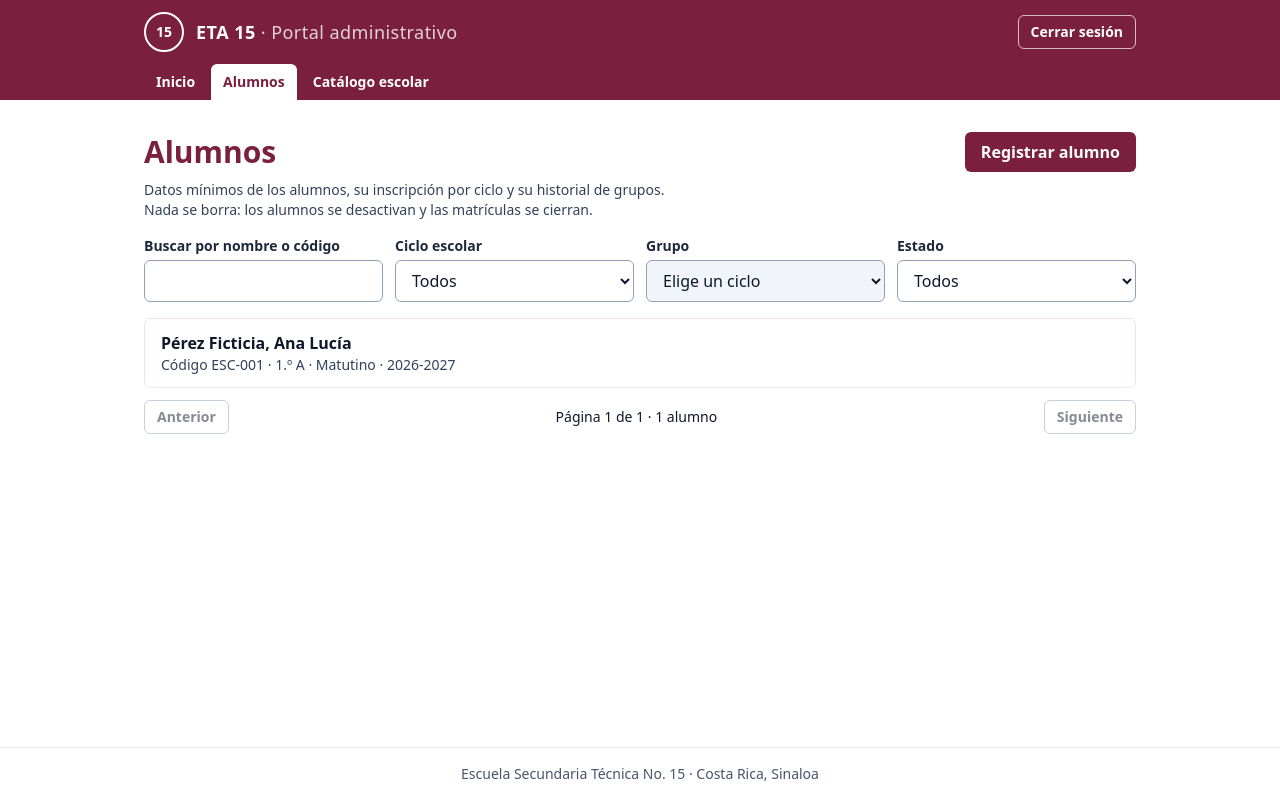
registro y correccion de alumnos (datos minimos) › valida antes de enviar y lleva el foco al primer campo con error
The width and height of the screenshot is (1280, 800).
Step 1. Click the button "Registrar alumno" → (1050, 152), box [965,132,1136,172]
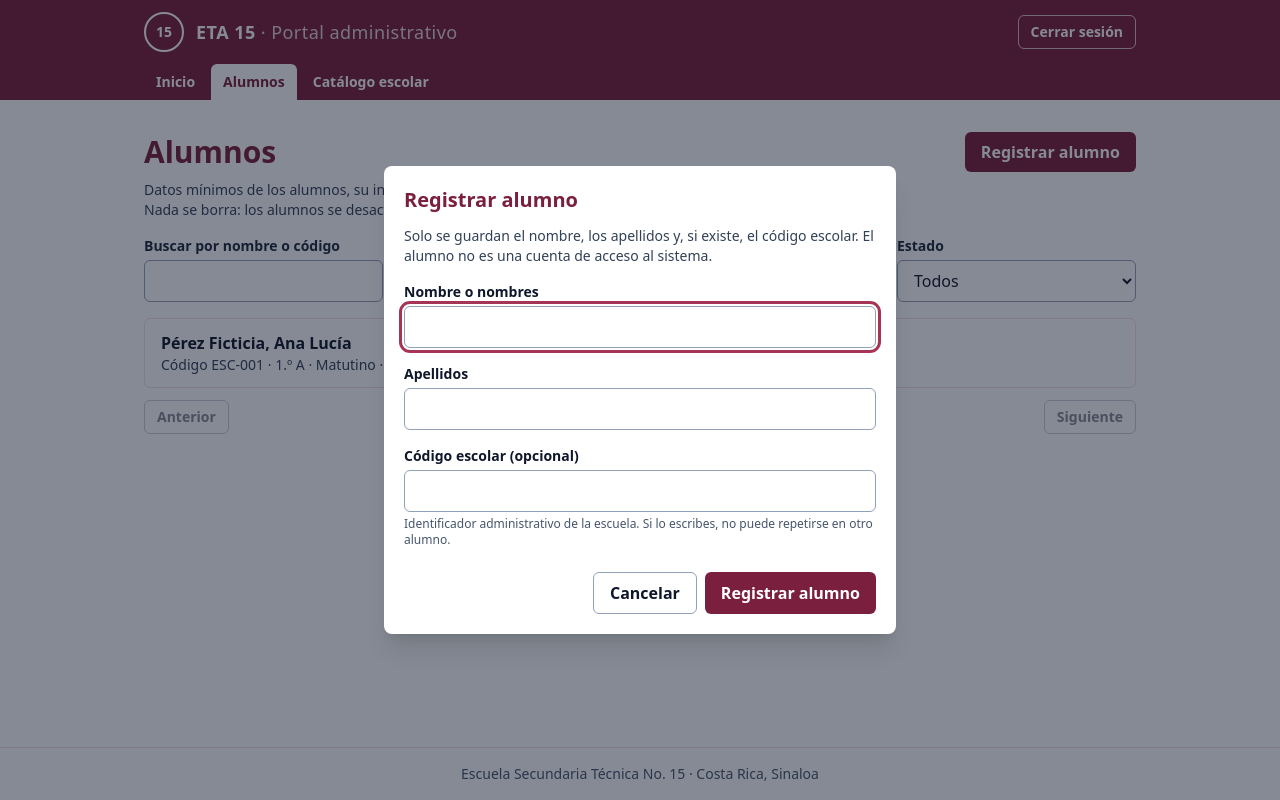
Step 2. Click the button "Registrar alumno" → (790, 593), box [705,572,876,614]
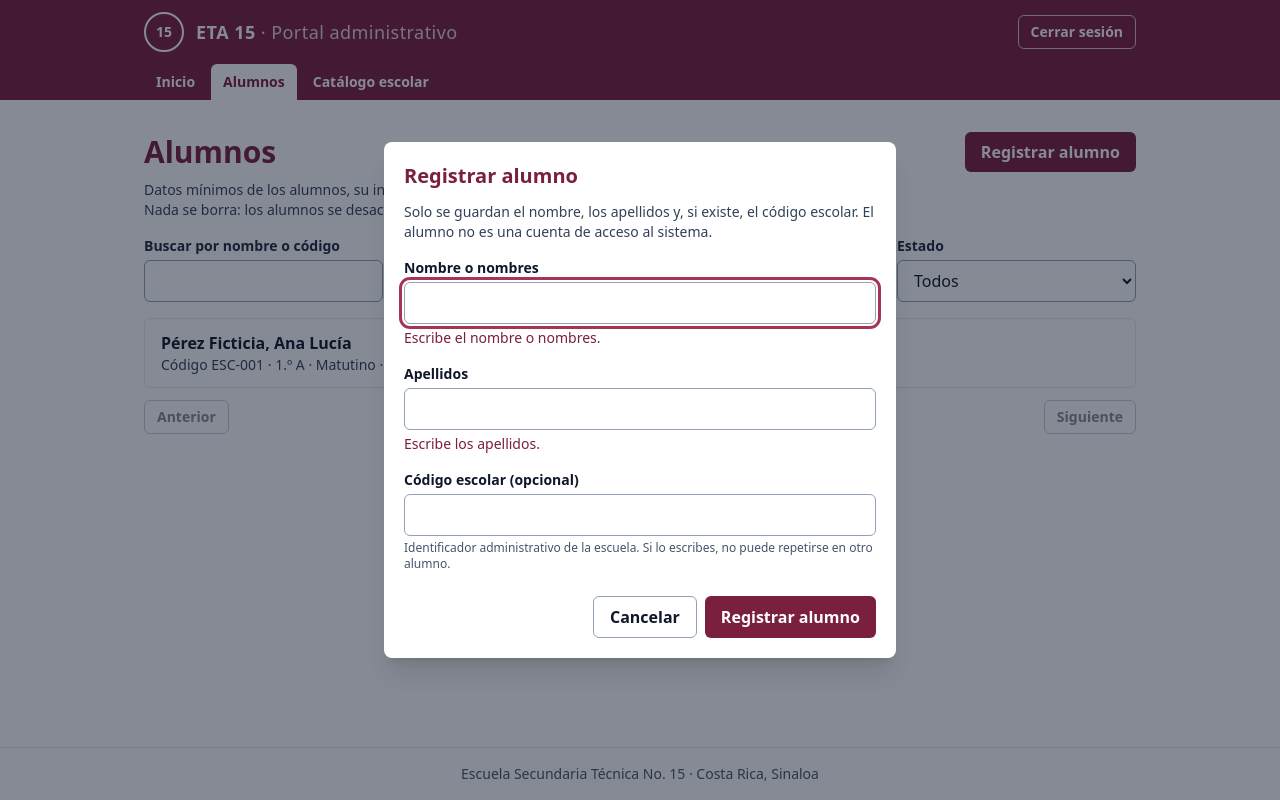
Result: the text "Escribe el nombre o nombres." is shown 2 times at [404,328,600,347]; [404,434,540,453]
Step 3. Type "Ana2" into the field labelled "Nombre o nombres" → (640, 303), box [404,282,876,324]
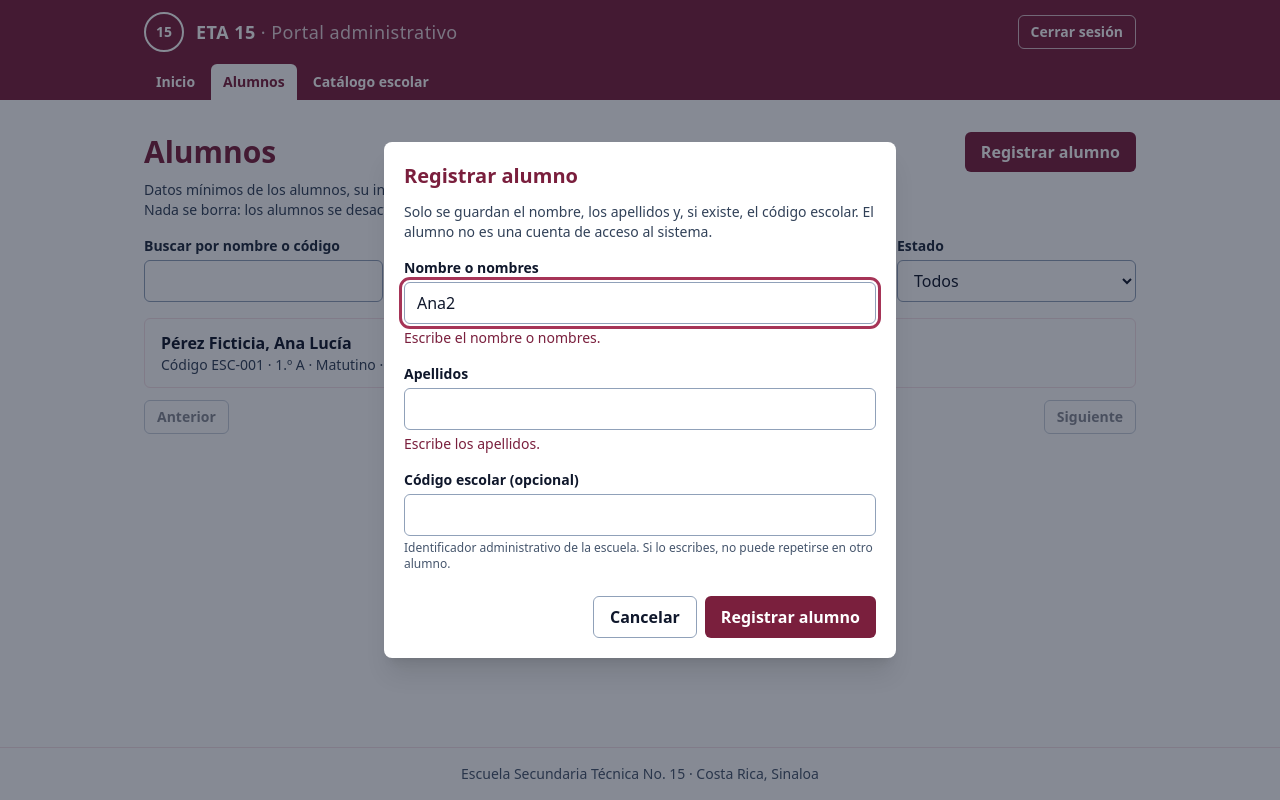
Step 4. Type "Pérez" into the field labelled "Apellidos" → (640, 409), box [404,388,876,430]
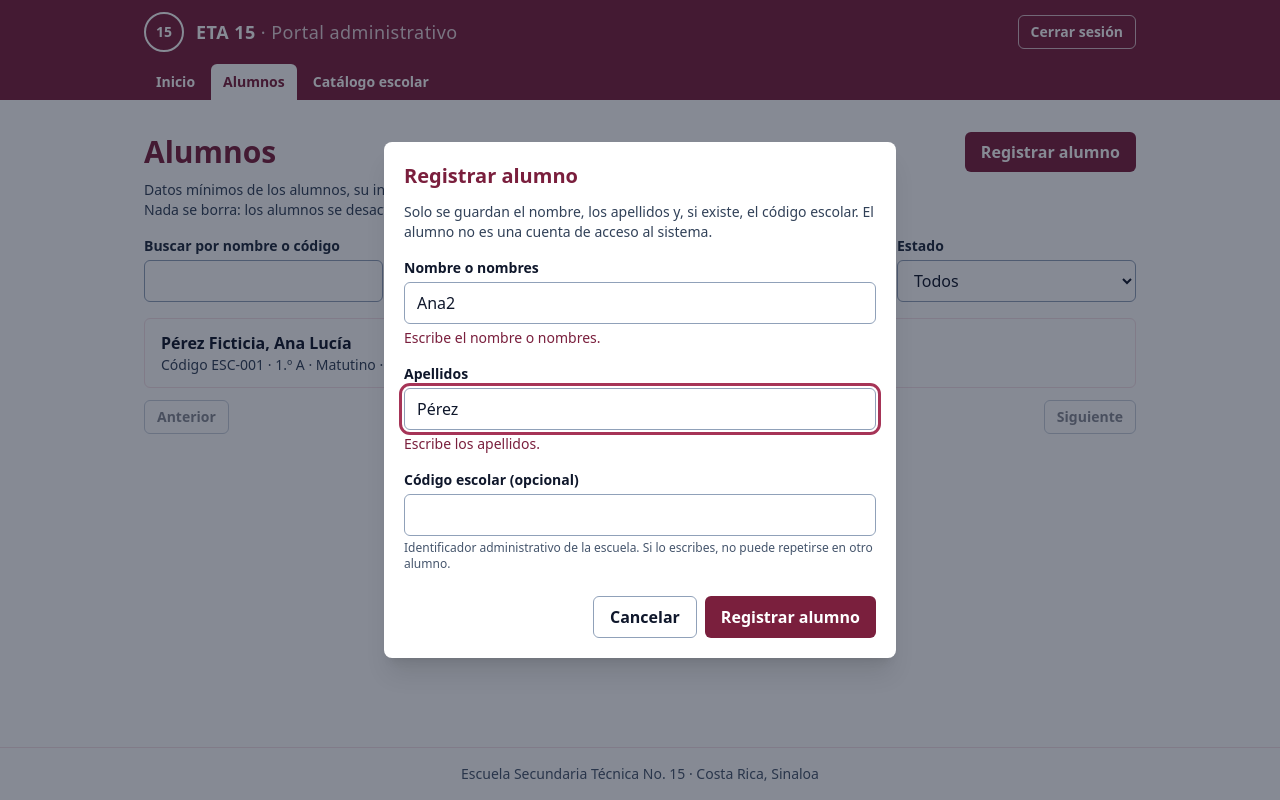
Step 5. Type "A B" into the field labelled "Código escolar (opcional)" → (640, 515), box [404,494,876,536]
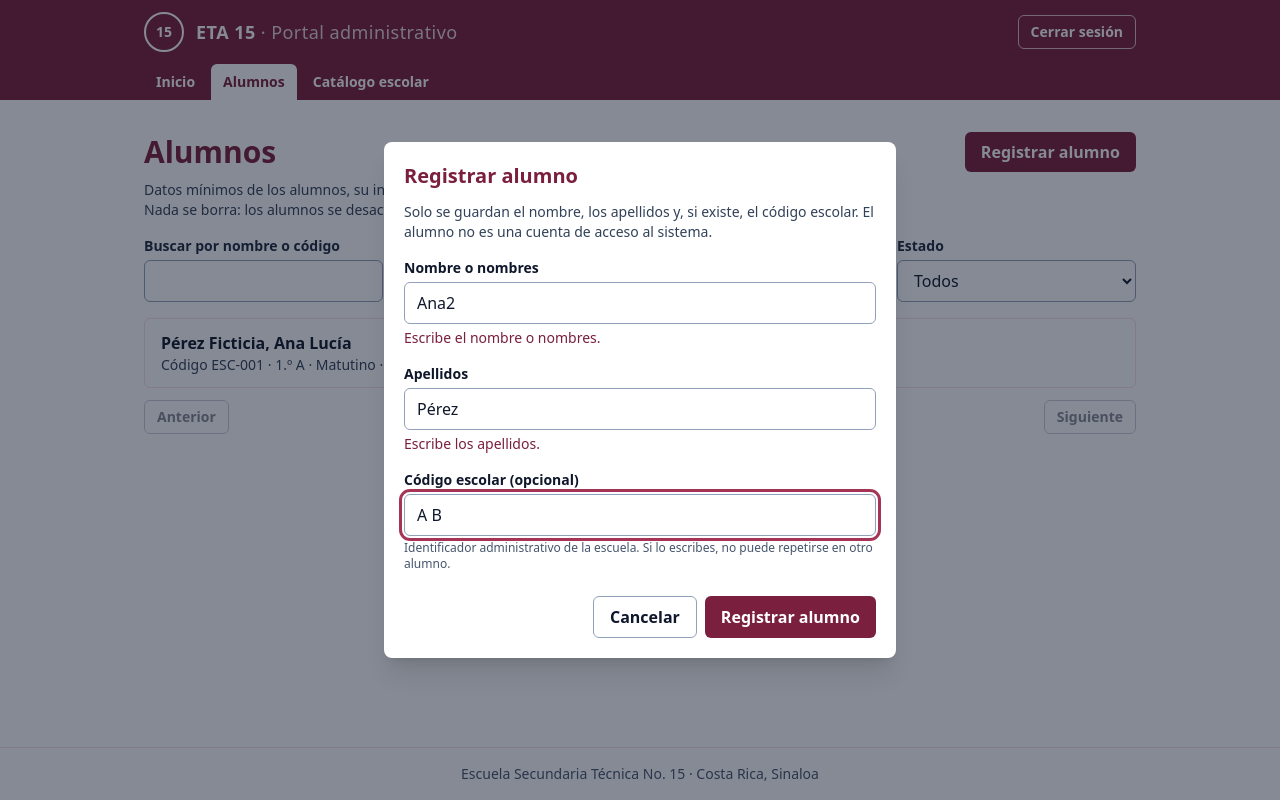
Step 6. Click the button "Registrar alumno" → (790, 617), box [705,596,876,638]
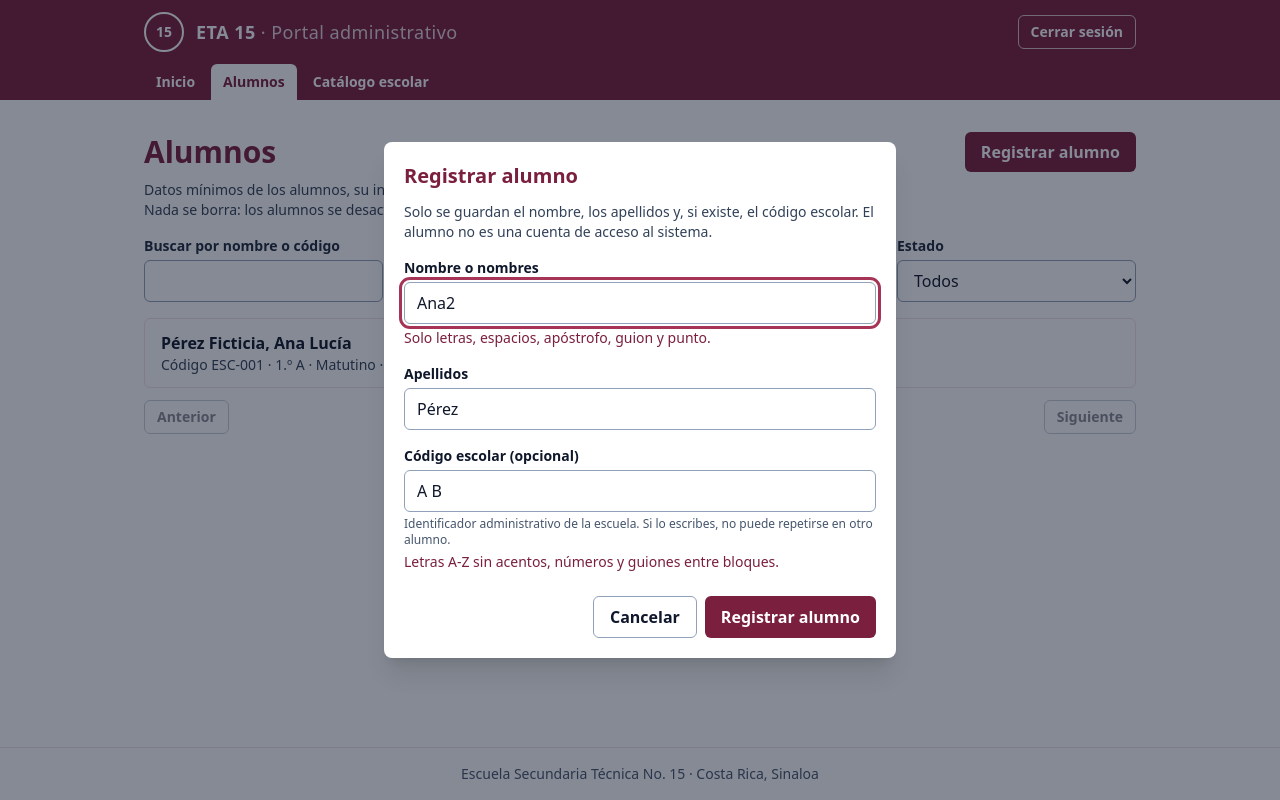
Result: the text "Solo letras, espacios, apóstrofo, guion y punto." is shown at [404,328,711,347]
Result: the text "Letras A-Z sin acentos, números y guiones entre bloques." is shown at [404,552,779,571]
